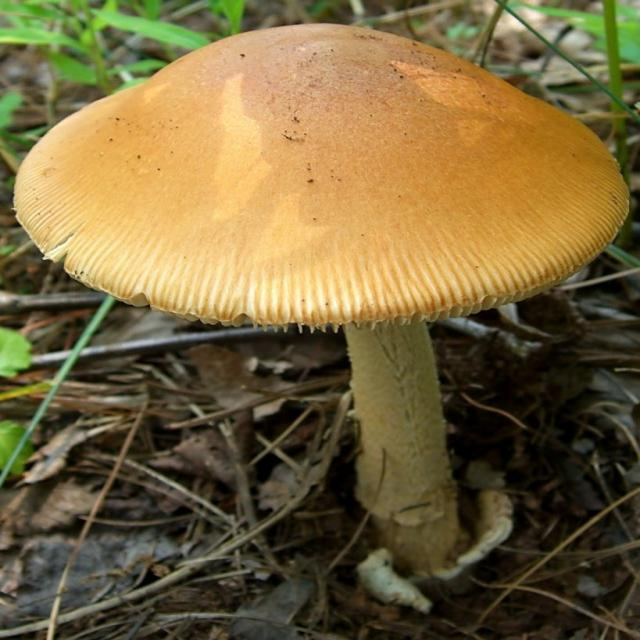Mushroom: (15, 25, 631, 575)
